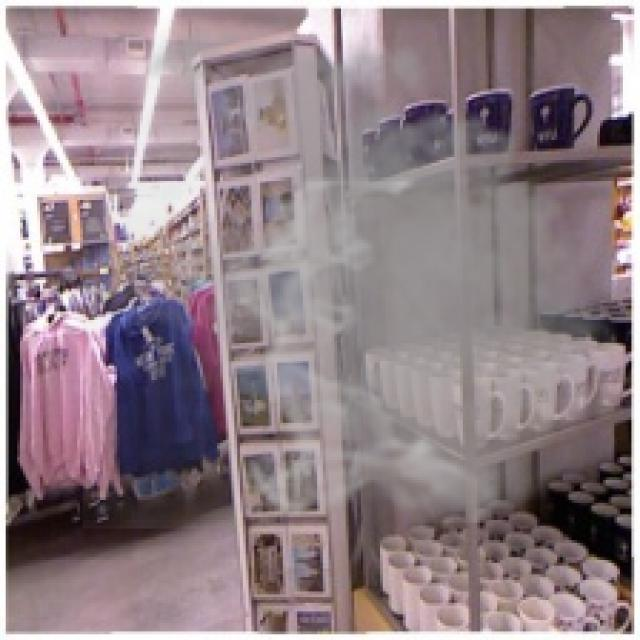Smoke: (82, 9, 638, 532)
